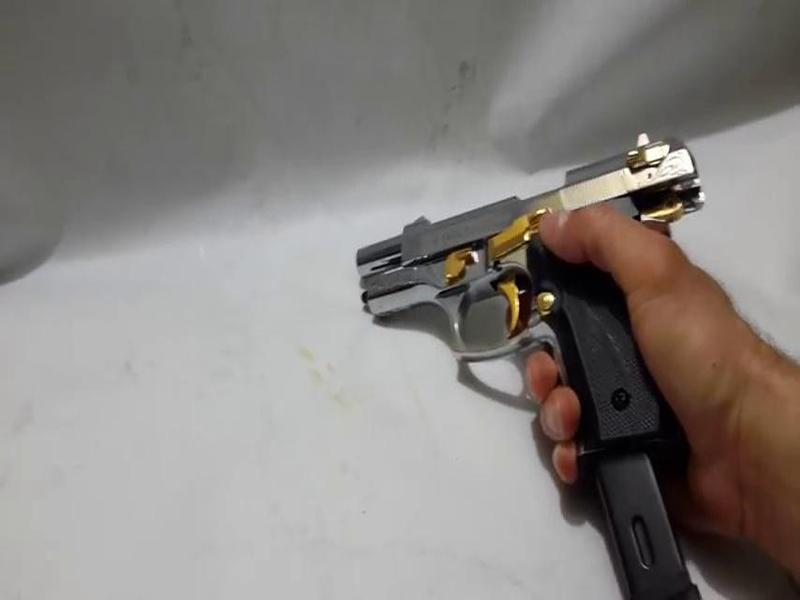Pistola: (358, 123, 716, 437)
